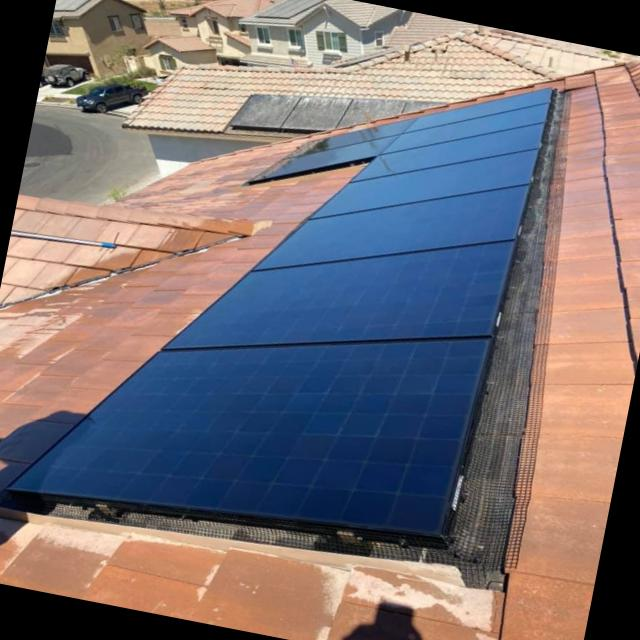no faulty: (17, 90, 541, 537)
